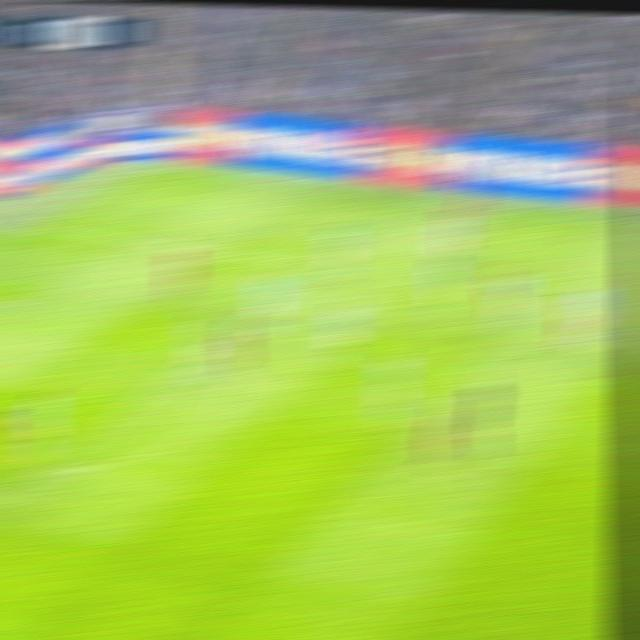bigarea_top_inner: (302, 258, 331, 274)
bigarea_top_outter: (19, 217, 48, 232)
bottom_arc_area_intersection: (21, 463, 69, 487)
corner: (140, 163, 167, 169)
smallarea_top_inner: (0, 296, 23, 312)
top_arc_area_intersection: (195, 342, 221, 356)
